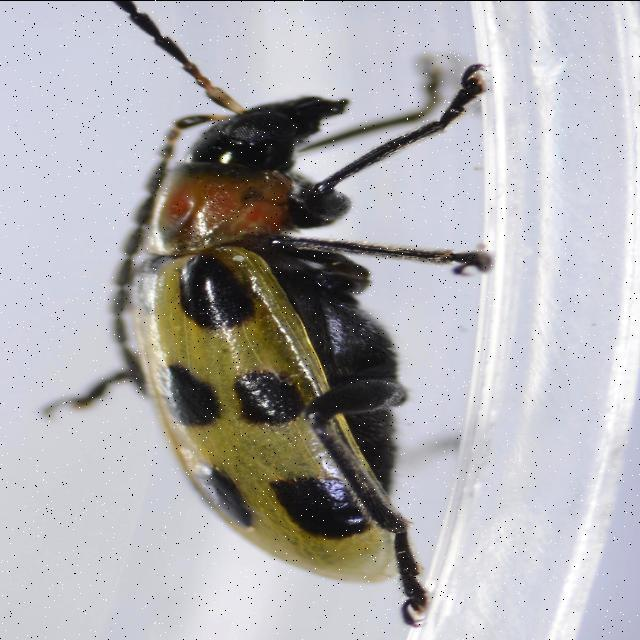gusano_verde: (38, 0, 490, 628)
